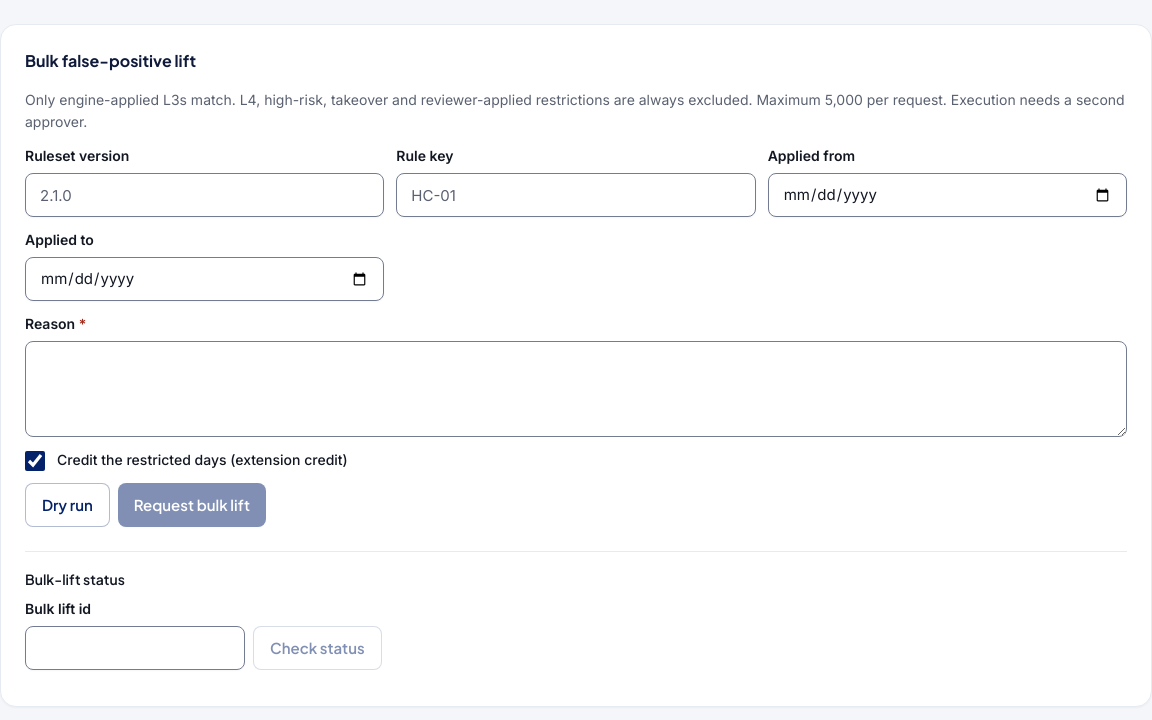
Kill switch ratification and exports › bulk lift: dry run first, then a dual-approval request
Expected: the button "Request bulk lift" is disabled, [118,483,266,527]
Click the field labelled "Rule key" at (576,195), box [396,173,756,217]
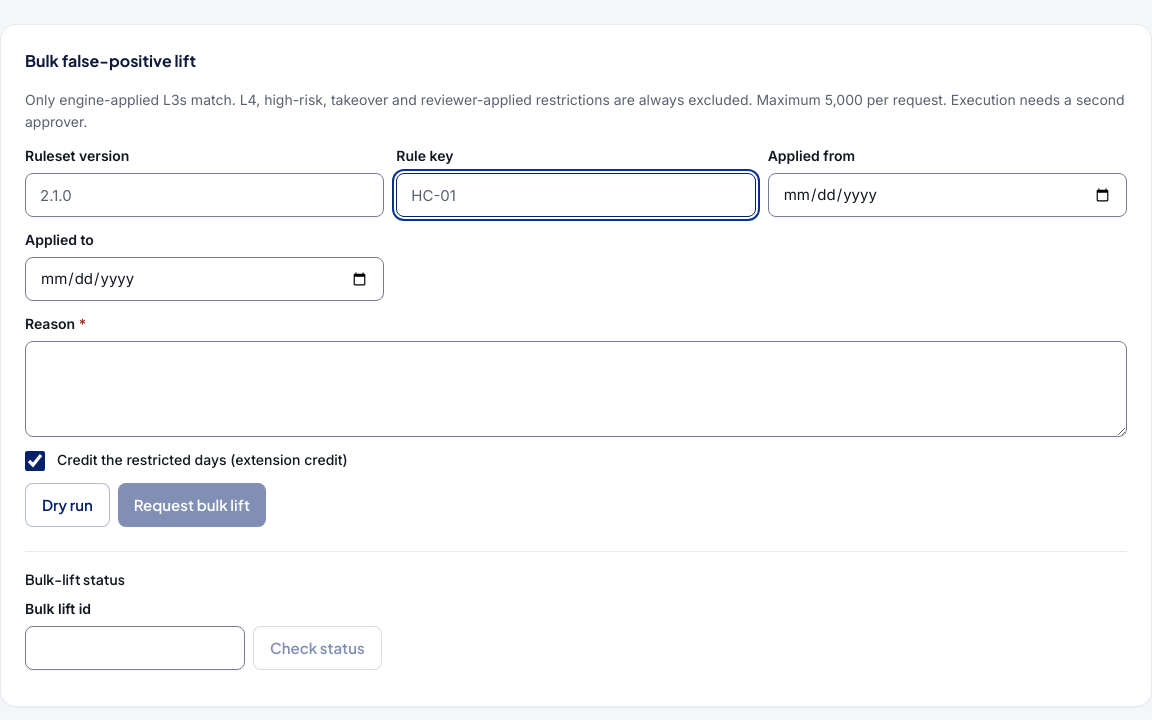
Type keys "HC-01"
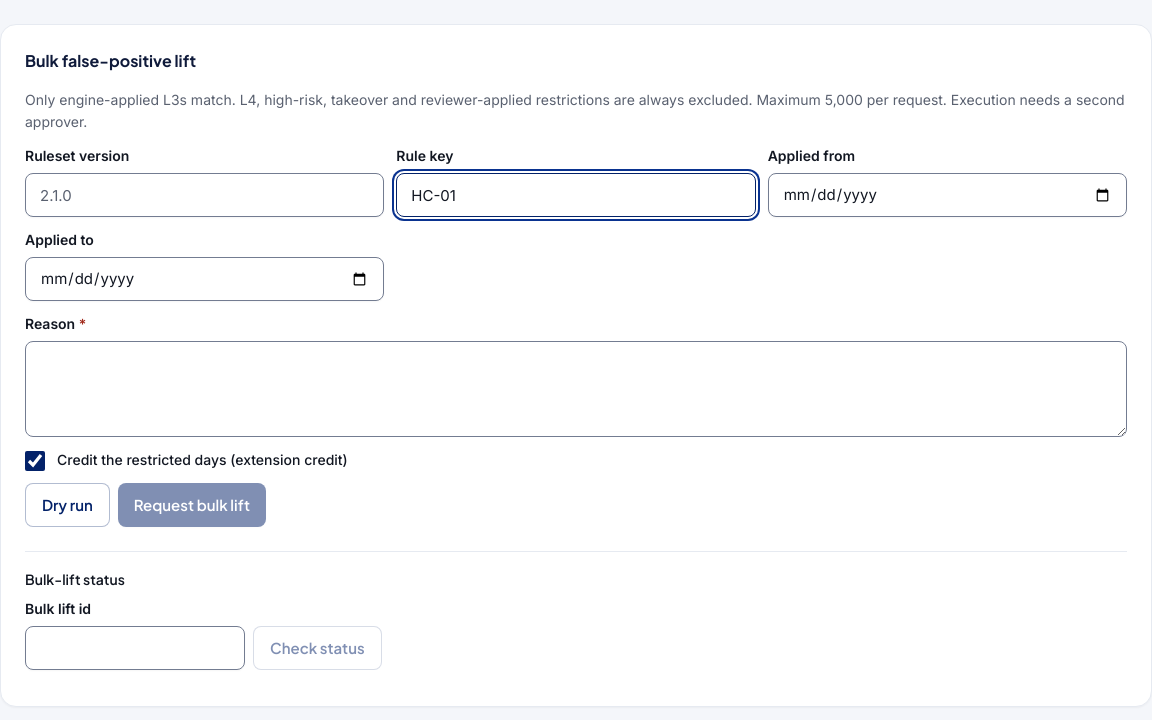
Click the text box labelled "Reason *" at (576,389), box [25,341,1127,437]
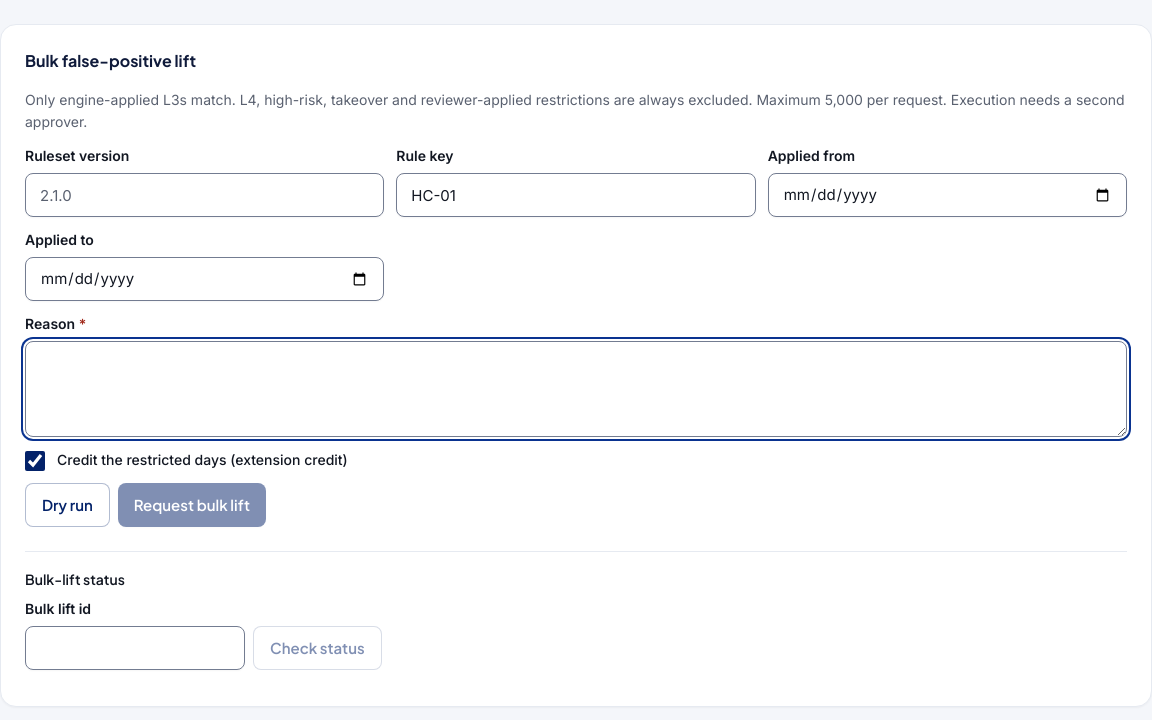
Type keys "HC-01 false-positive surge on 2 Nov"
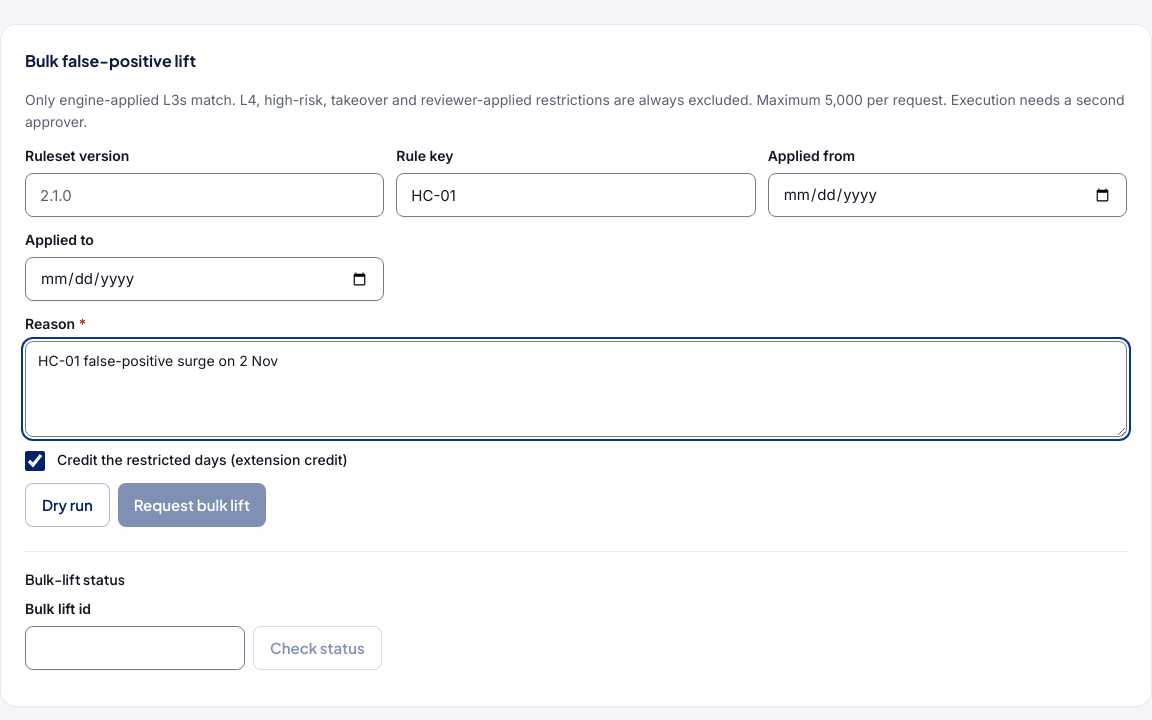
Click the button "Dry run" at (67,505), box [25,483,110,527]
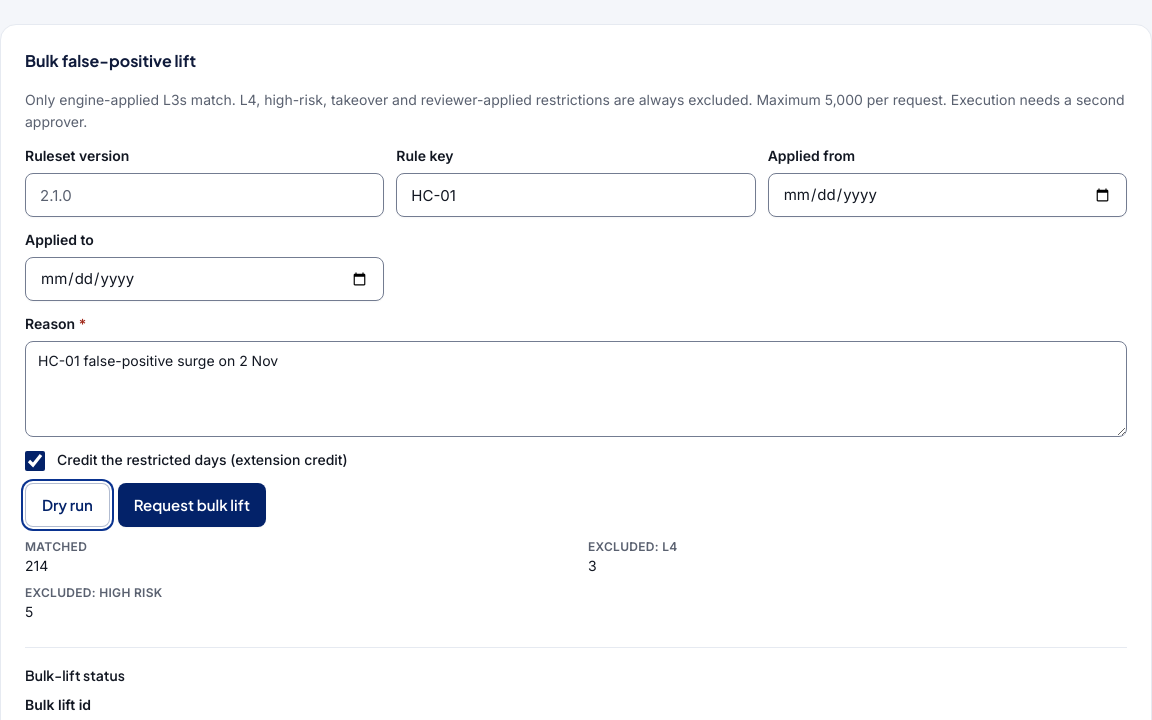
Expected: the text "214" is shown, [25,557,48,574]
Click the button "Request bulk lift" at (192,505), box [118,483,266,527]
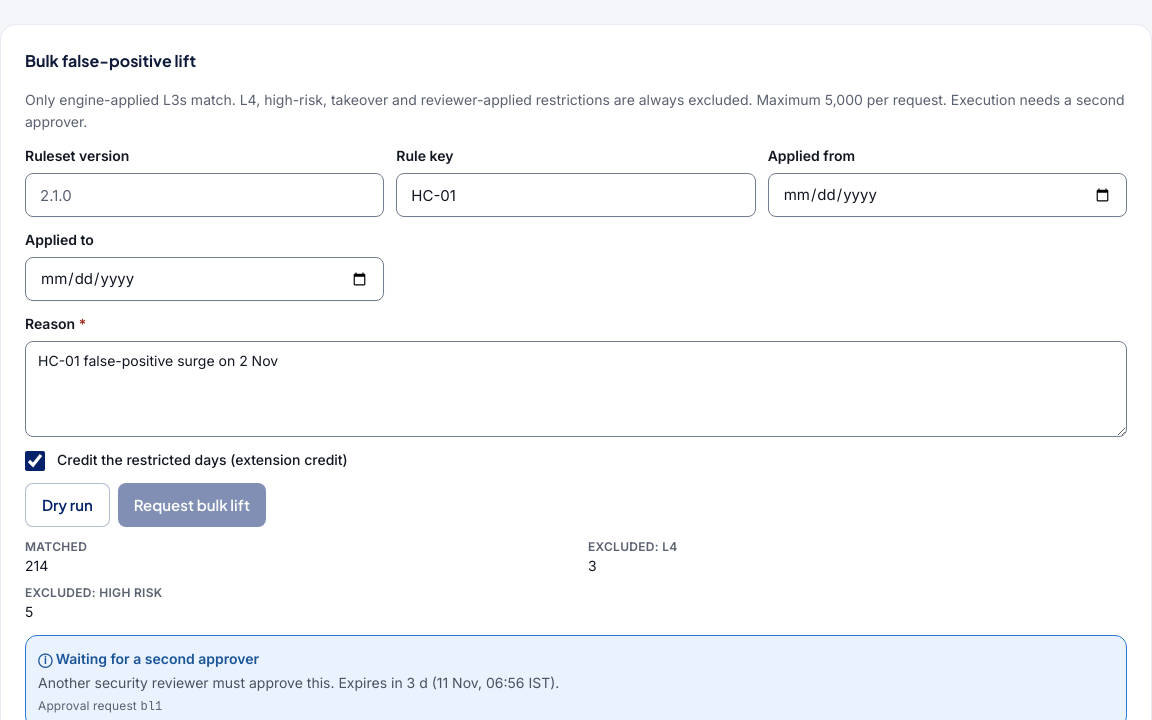
Expected: the text "Waiting for a second approver" is shown, [56,650,259,667]
